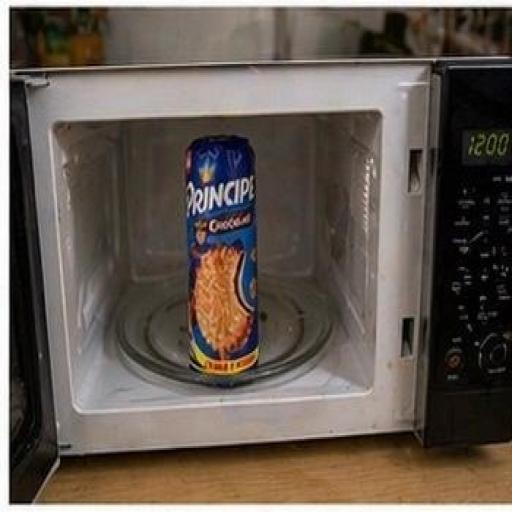prince: (119, 88, 408, 423)
